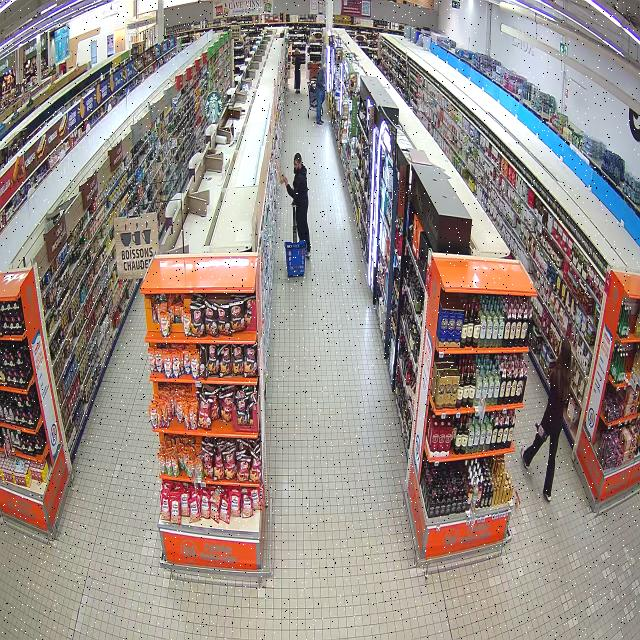article: (539, 429, 548, 443), (280, 172, 286, 184), (535, 423, 539, 434)
hands: (538, 425, 543, 436), (284, 176, 288, 186)
person: (521, 337, 572, 501), (286, 152, 311, 257), (316, 64, 325, 124)
